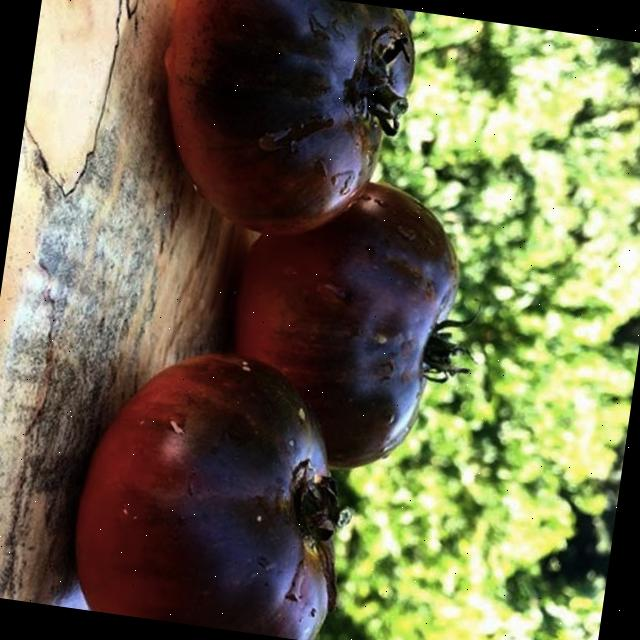tomato: (34, 0, 582, 640)
